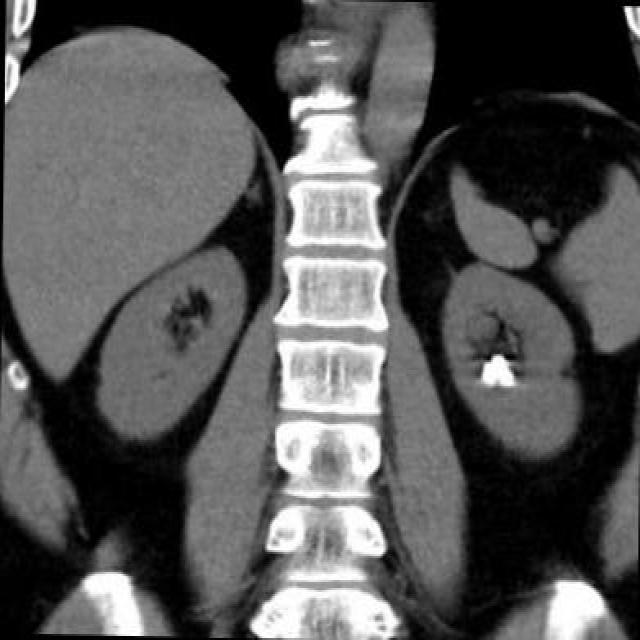Tas_Var: (498, 365, 515, 391), (479, 366, 498, 388), (489, 354, 508, 370)
